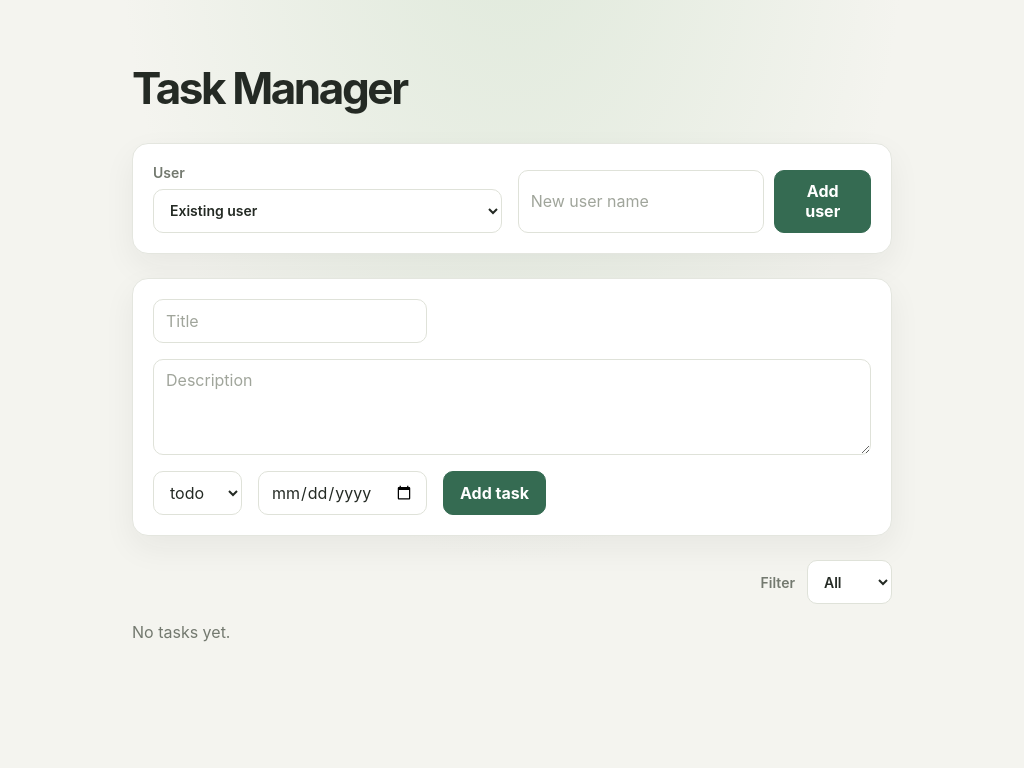
Scenario: Creation forms › preserves every task field on failure and resets them after a successful retry
The image size is (1024, 768).
Check: the text "No tasks yet." is shown, box [132, 622, 230, 642]
Type "  Keep my draft  " into the field labelled "Title" at (290, 321), box [153, 299, 427, 343]
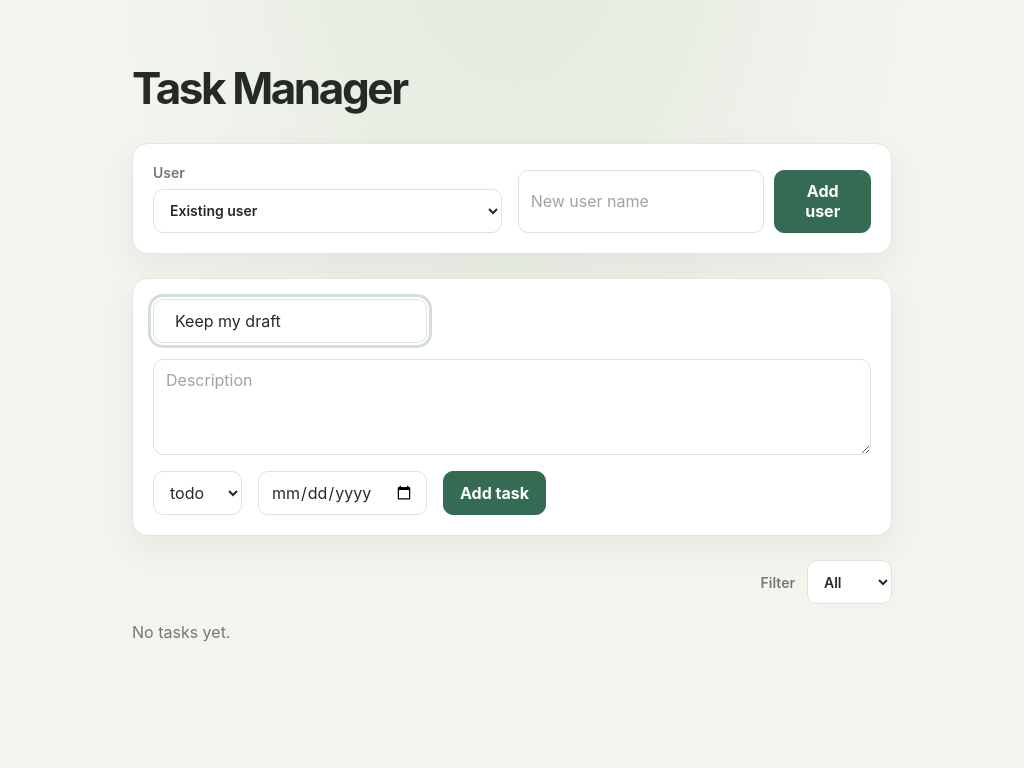
Type "Detailed notes" into the text box labelled "Description" at (512, 407), box [153, 359, 871, 455]
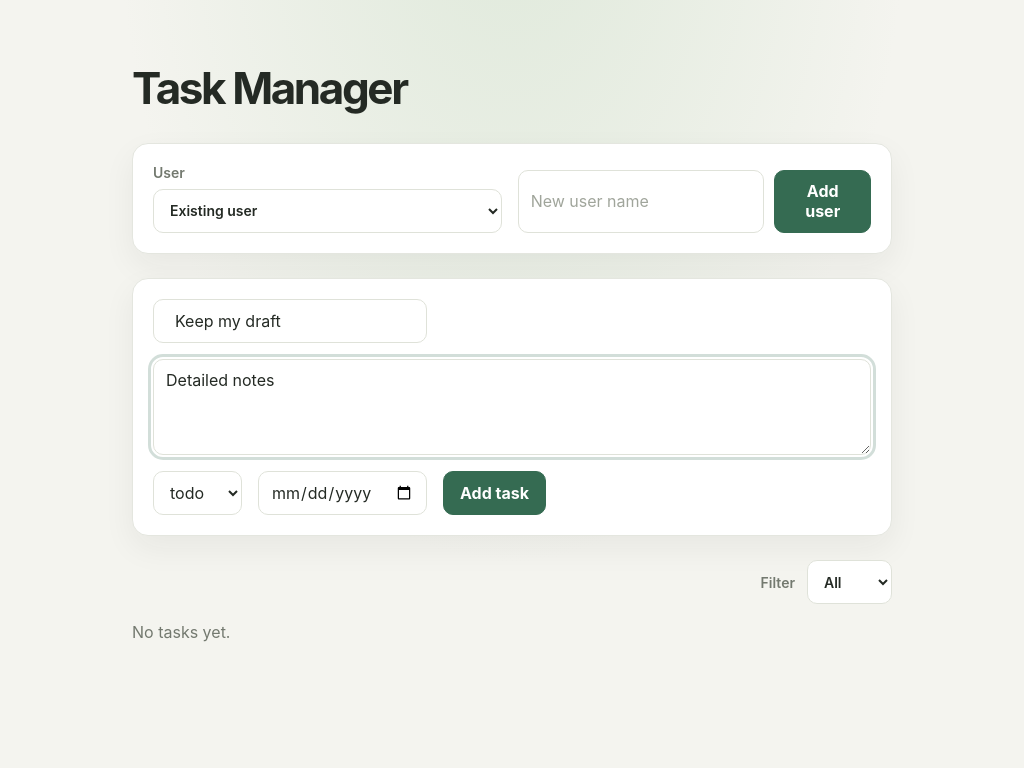
Select "doing" in the dropdown named "Status" at (198, 493), box [153, 471, 242, 515]
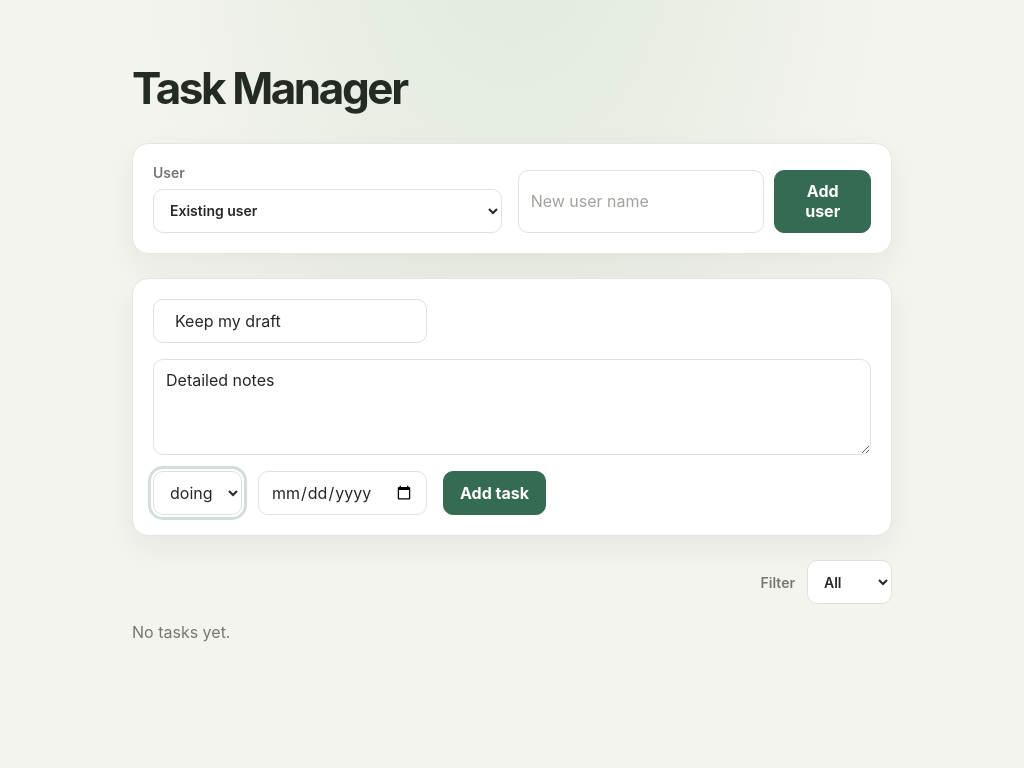
Type "2099-12-31" into the date field named "Due date" at (342, 493), box [258, 471, 427, 515]
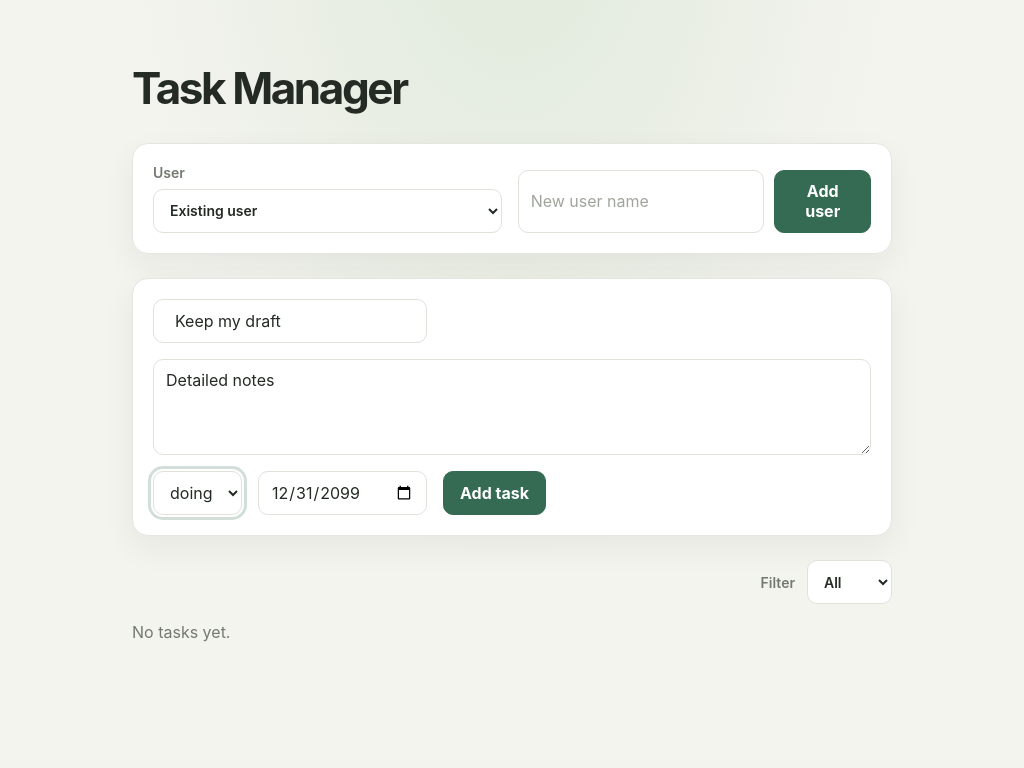
Click the button "Add task" at (494, 493), box [443, 471, 546, 515]
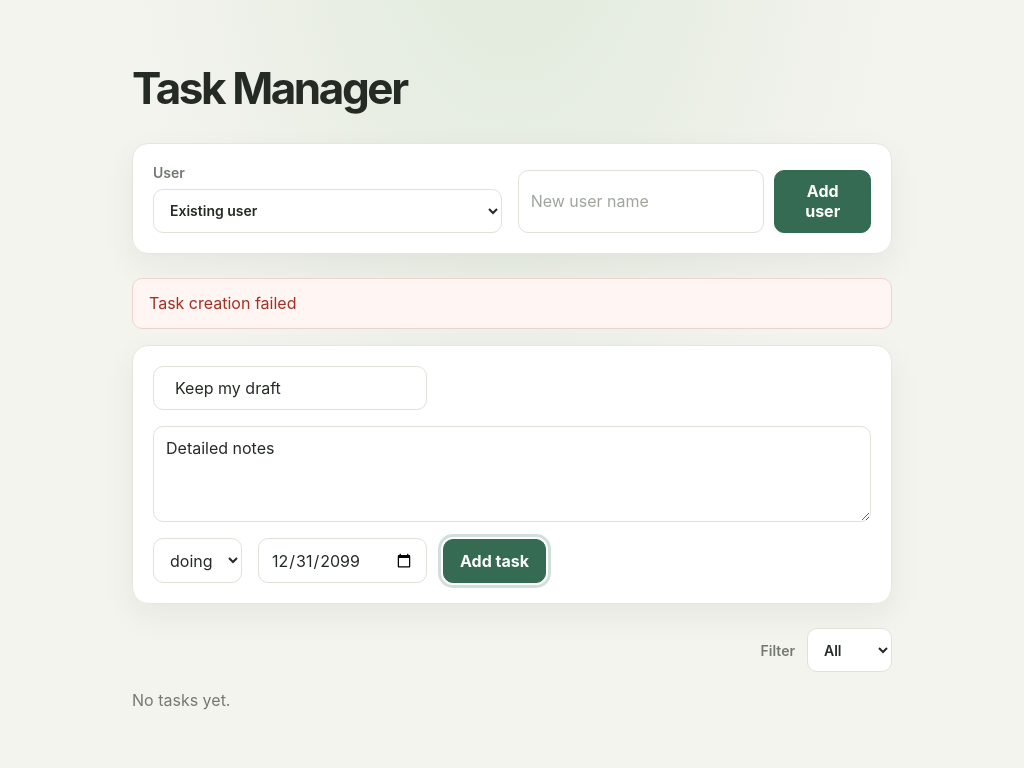
Check: the message reads "Task creation failed", box [149, 293, 296, 313]
Click the button "Add task" at (494, 561), box [443, 539, 546, 583]
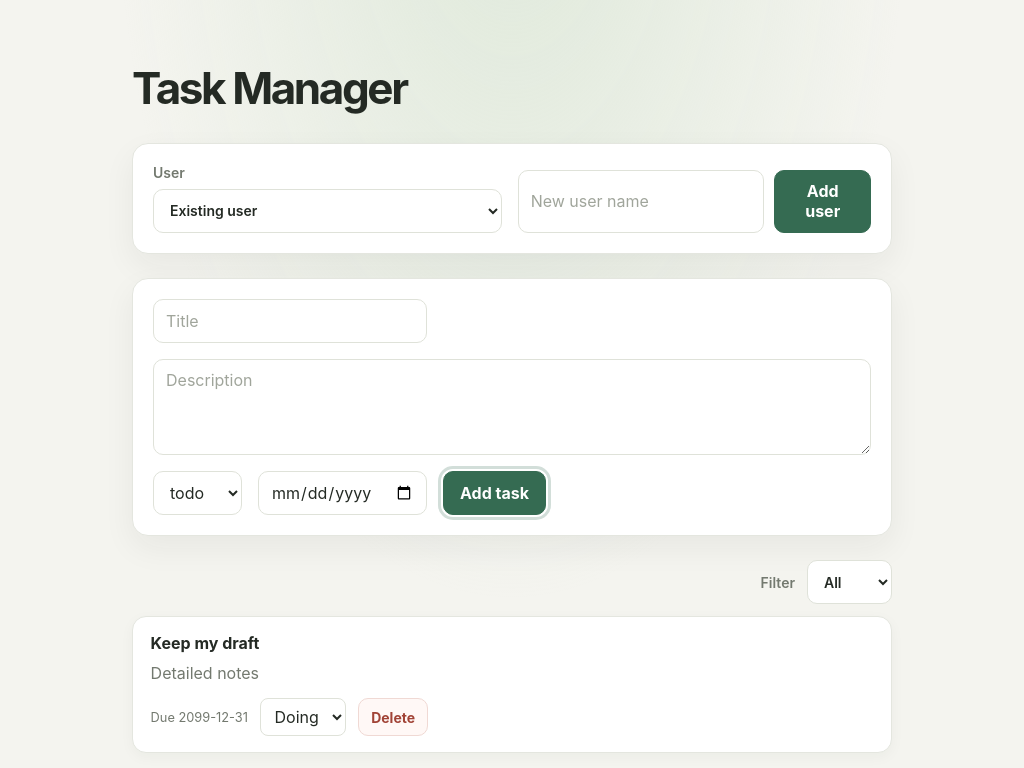
Check: the text "Keep my draft" is shown, box [151, 633, 259, 653]
Check: the field labelled "Title" is empty, box [153, 299, 427, 343]
Check: the text box labelled "Description" is empty, box [153, 359, 871, 455]
